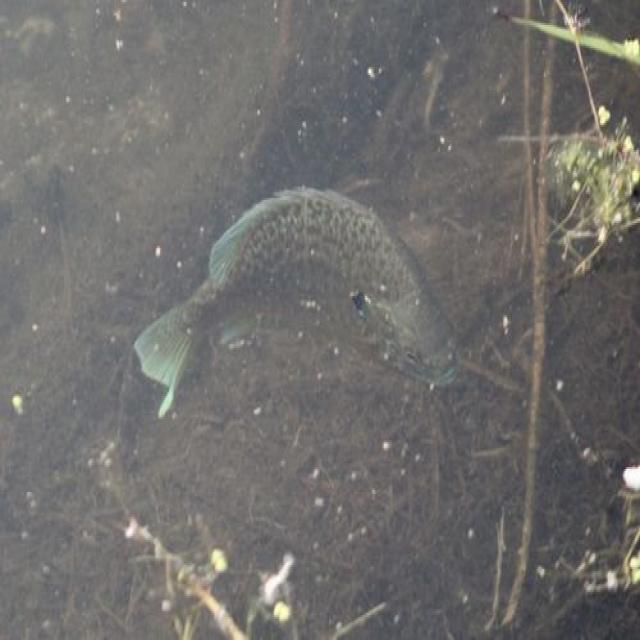Gunes Levregi: (133, 179, 463, 413)
